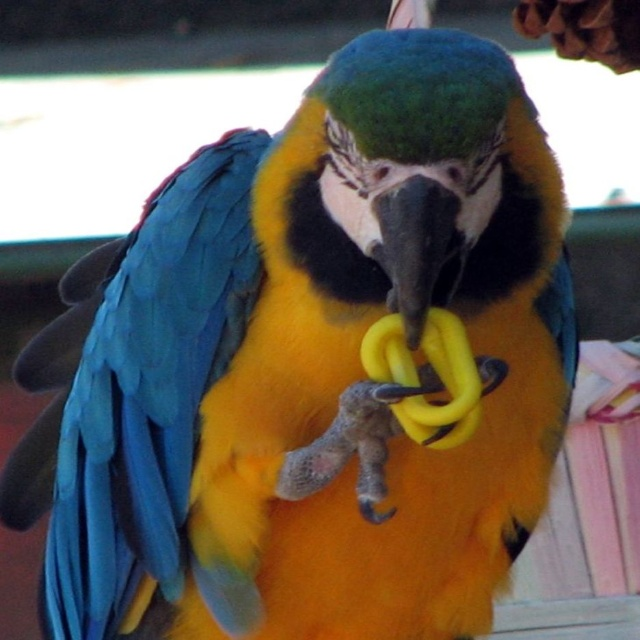Parrot: (0, 28, 580, 639)
